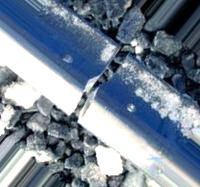tracks_fault: (63, 29, 140, 127)
